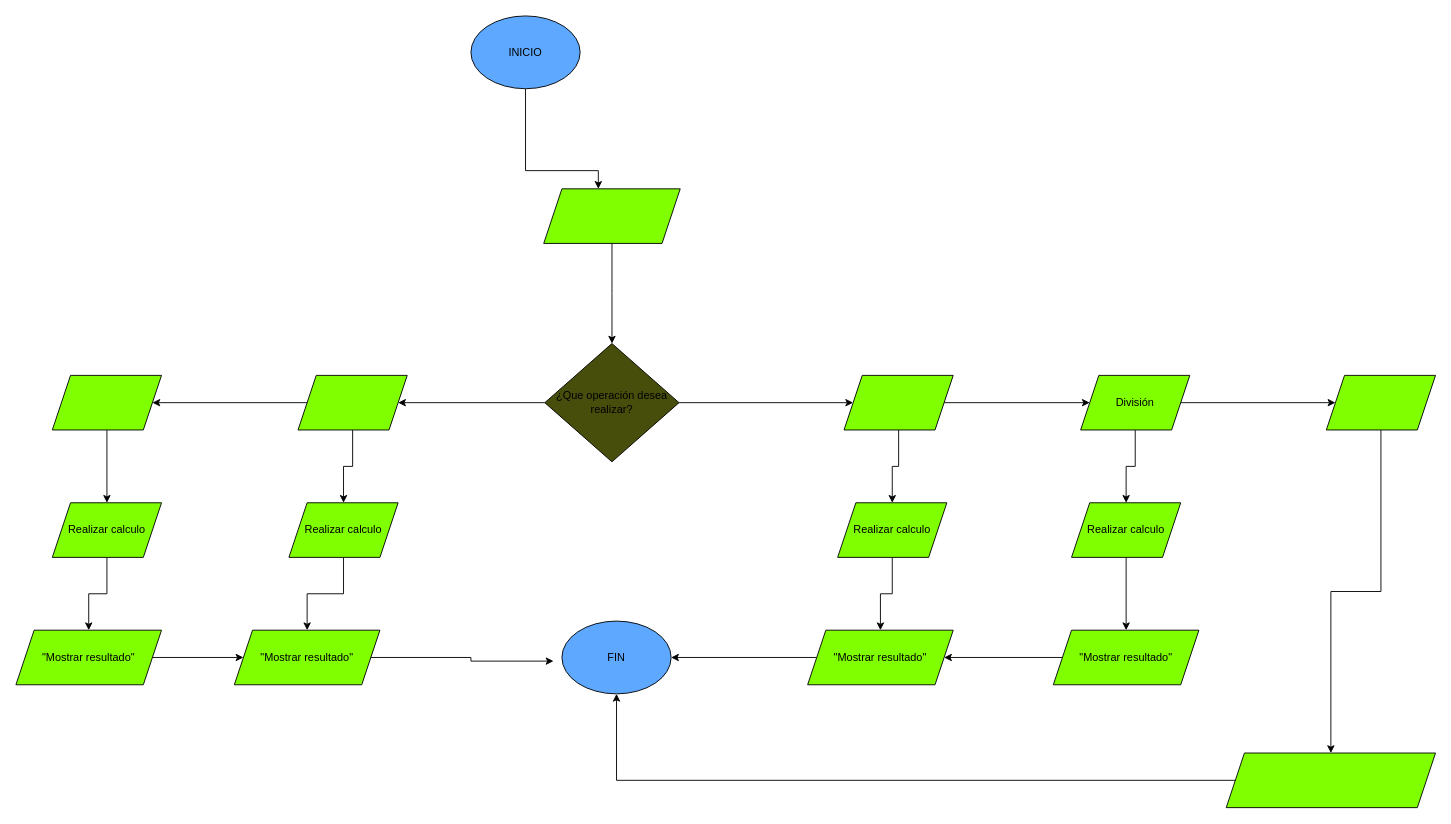
This 1451x824 diagram has some shape labels left out. The centre of each missing label's shape, as x and y in pixels:
"Ingresar números": (611,215)
División por 0: (1380,402)
Mostrar mensaje de error en ventana: (1330,780)
Multiplicación: (898,402)
Resta: (106,402)
Suma: (352,402)
